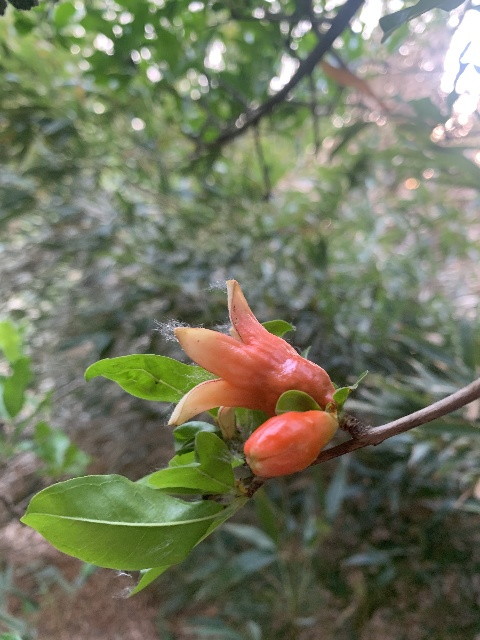bud: (244, 409, 337, 477)
flower: (169, 279, 334, 446)
